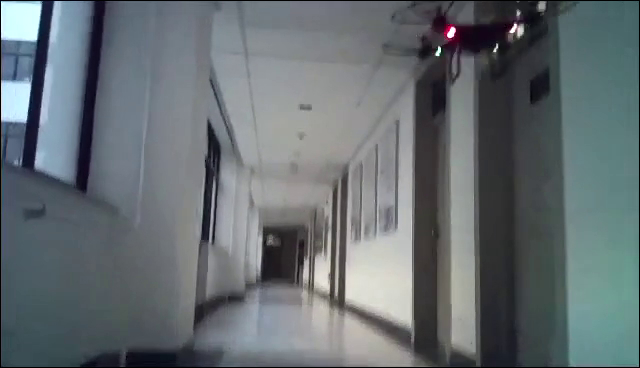drone: (380, 1, 580, 85)
